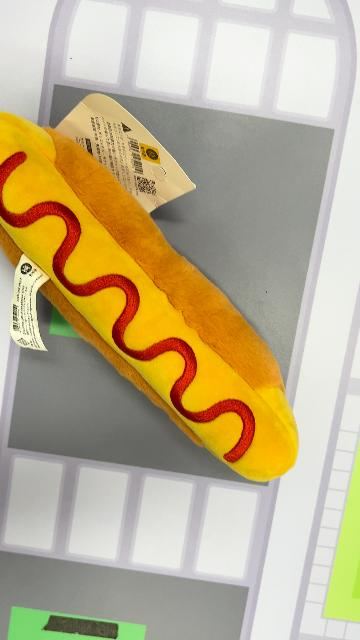hotdog: (1, 110, 300, 483)
